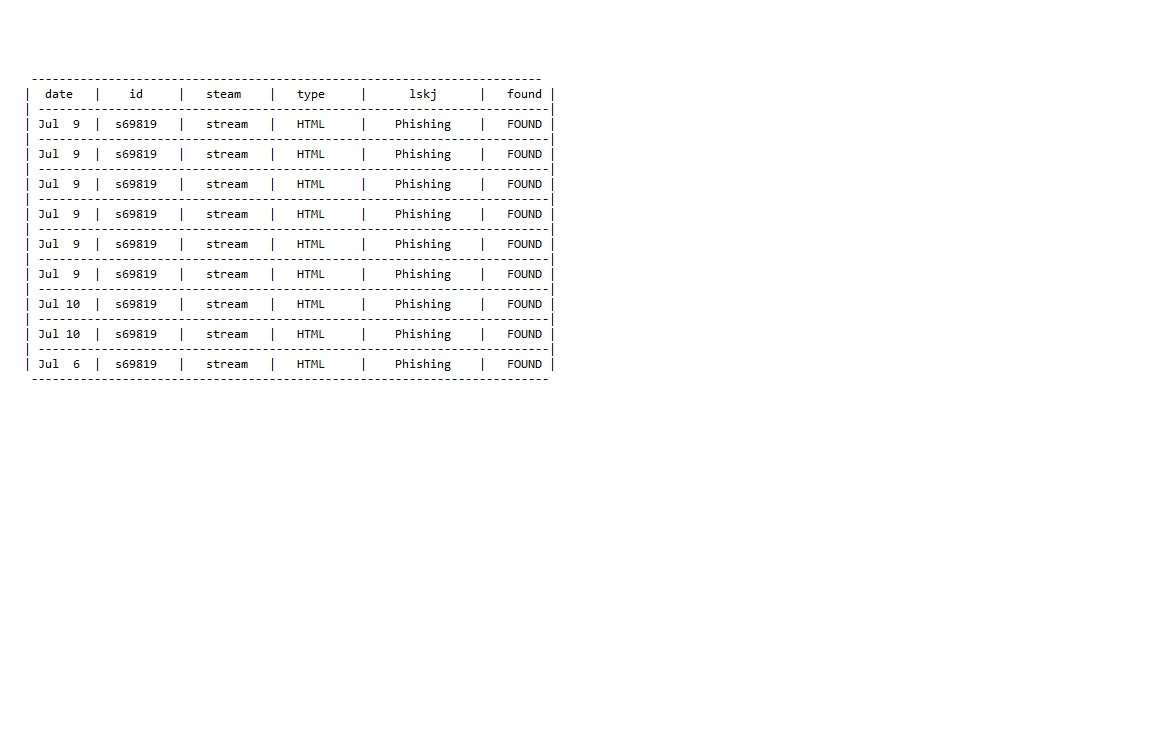table: (19, 74, 558, 388)
